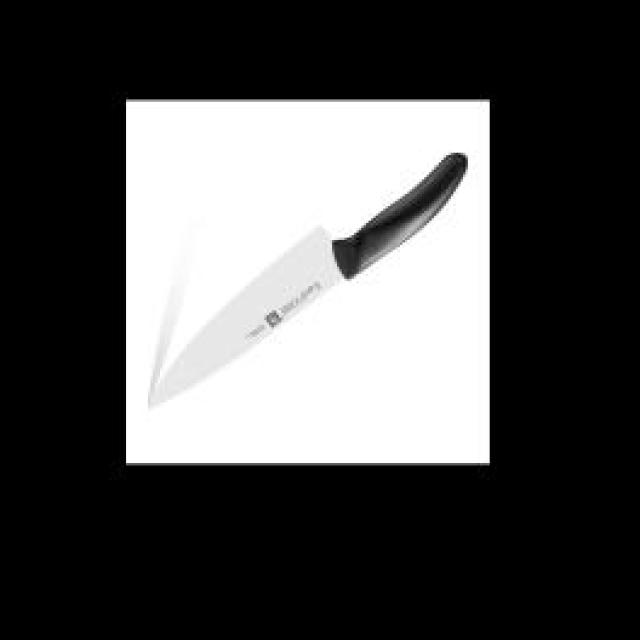knife: (142, 143, 468, 423)
